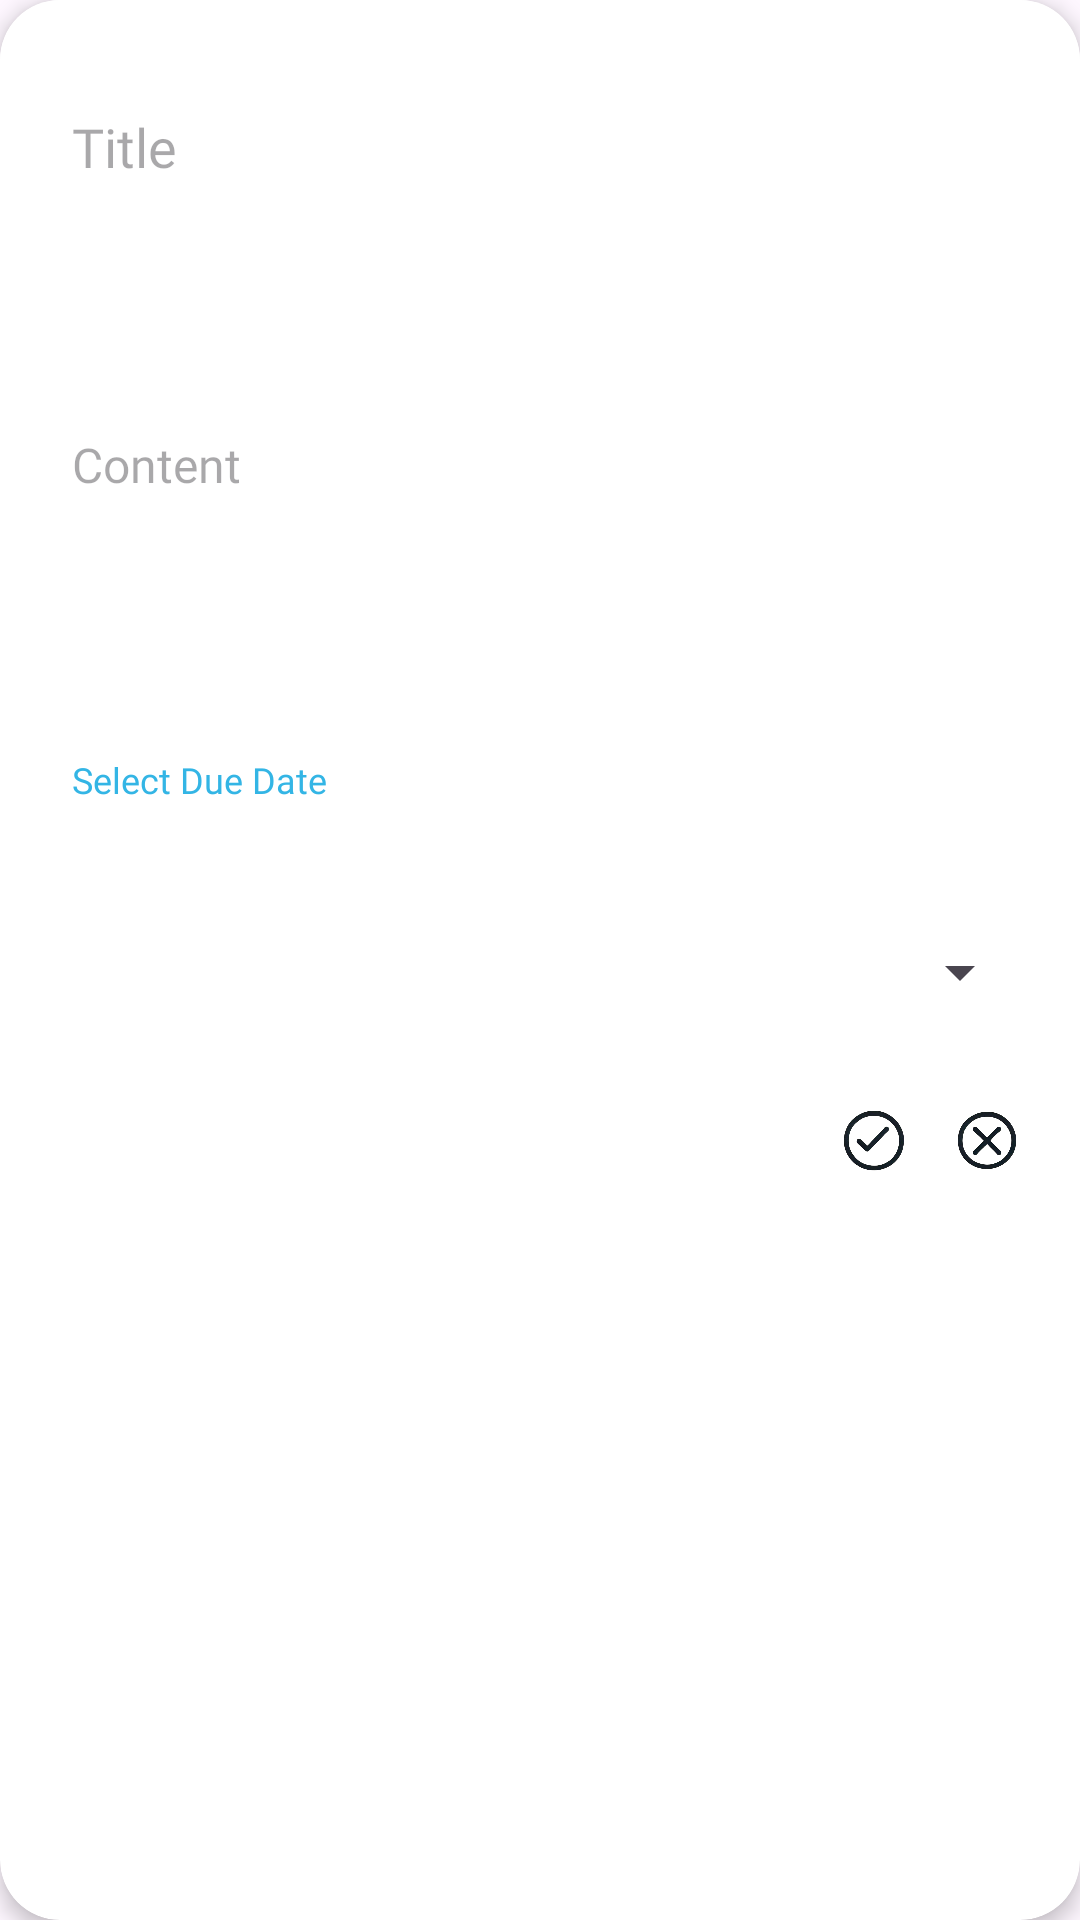

Screen size 1080px x 1920px. Icon name, then its box in pixels as (x1, y1, x2, y2):
check: (844, 1111, 904, 1170)
